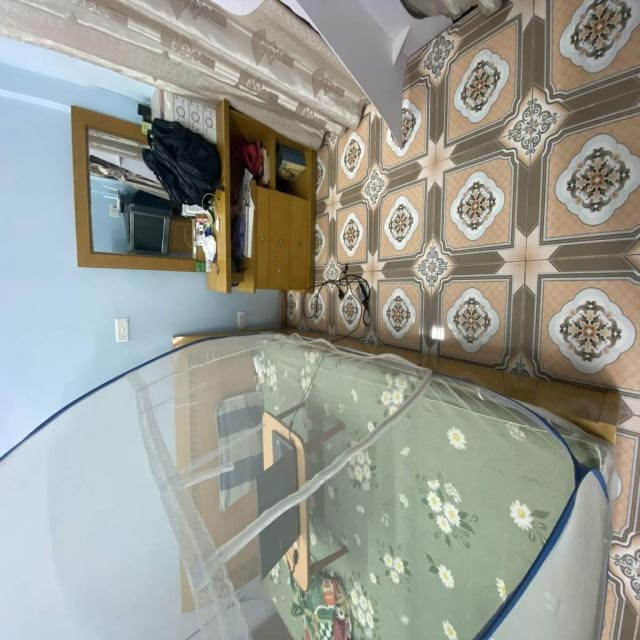outlet: (237, 311, 246, 329)
